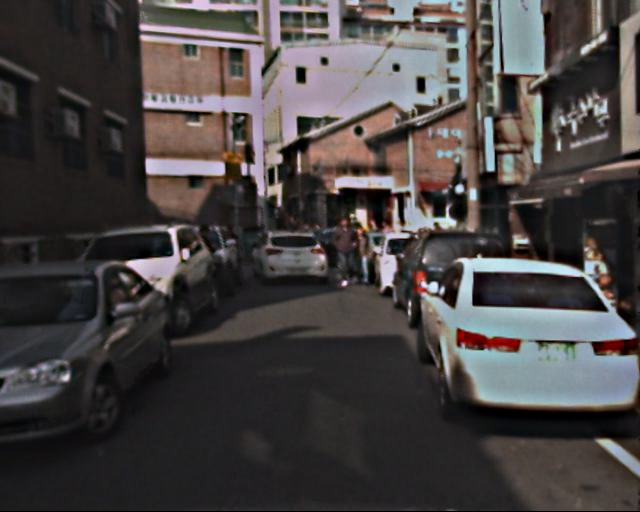person: (329, 217, 358, 288), (349, 226, 374, 286)
